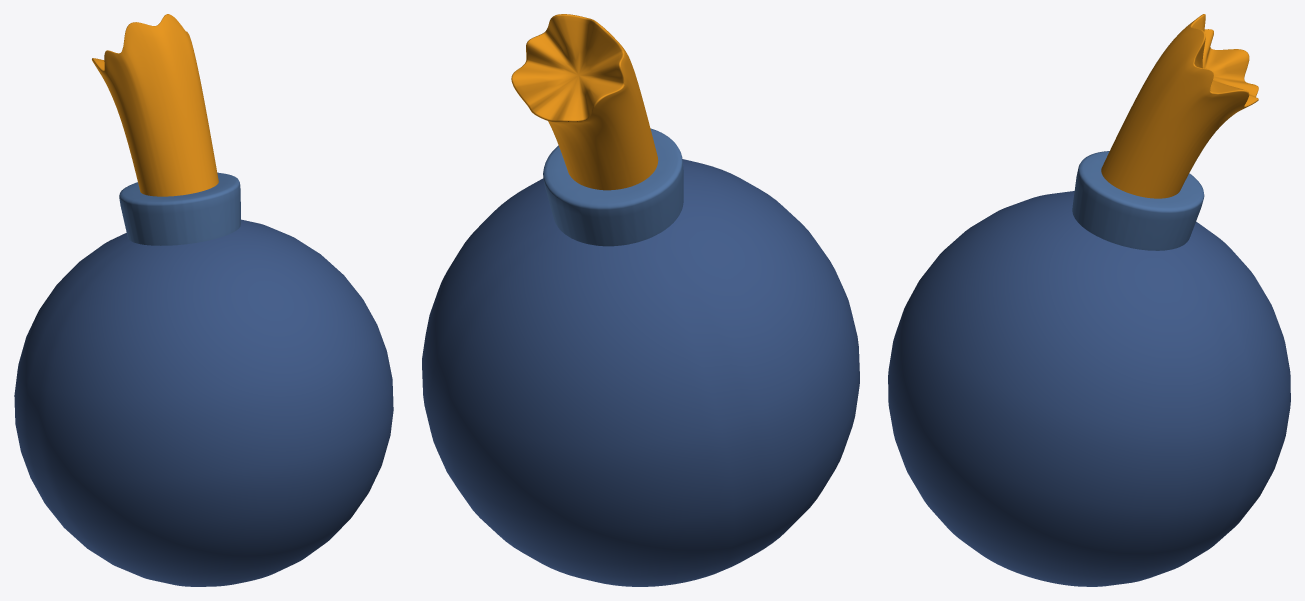
The model's file is zhadan.fbx.
The picture shows the model from 3 angles, left to right: view 1: azimuth 30°, elevation 25°; view 2: azimuth 150°, elevation 25°; view 3: azimuth 270°, elevation 25°; orthographic projection. The views are drawn at different scales.
Parts seen in each view (by area): view 1: pSphere1, pCylinder2, pCylinder1; view 2: pSphere1, pCylinder2, pCylinder1; view 3: pSphere1, pCylinder2, pCylinder1.
Boxes of the visible parts, left/top/right/bottom form: pSphere1: left=14, top=219, right=393, bottom=586; pCylinder2: left=92, top=14, right=218, bottom=196; pCylinder1: left=119, top=172, right=240, bottom=245; pSphere1: left=422, top=159, right=859, bottom=586; pCylinder2: left=511, top=14, right=658, bottom=190; pCylinder1: left=543, top=128, right=683, bottom=246; pSphere1: left=888, top=191, right=1290, bottom=586; pCylinder2: left=1101, top=14, right=1258, bottom=198; pCylinder1: left=1072, top=151, right=1204, bottom=250.
Bounding box in the file's own units: 1.3 × 1.93 × 1.3.
